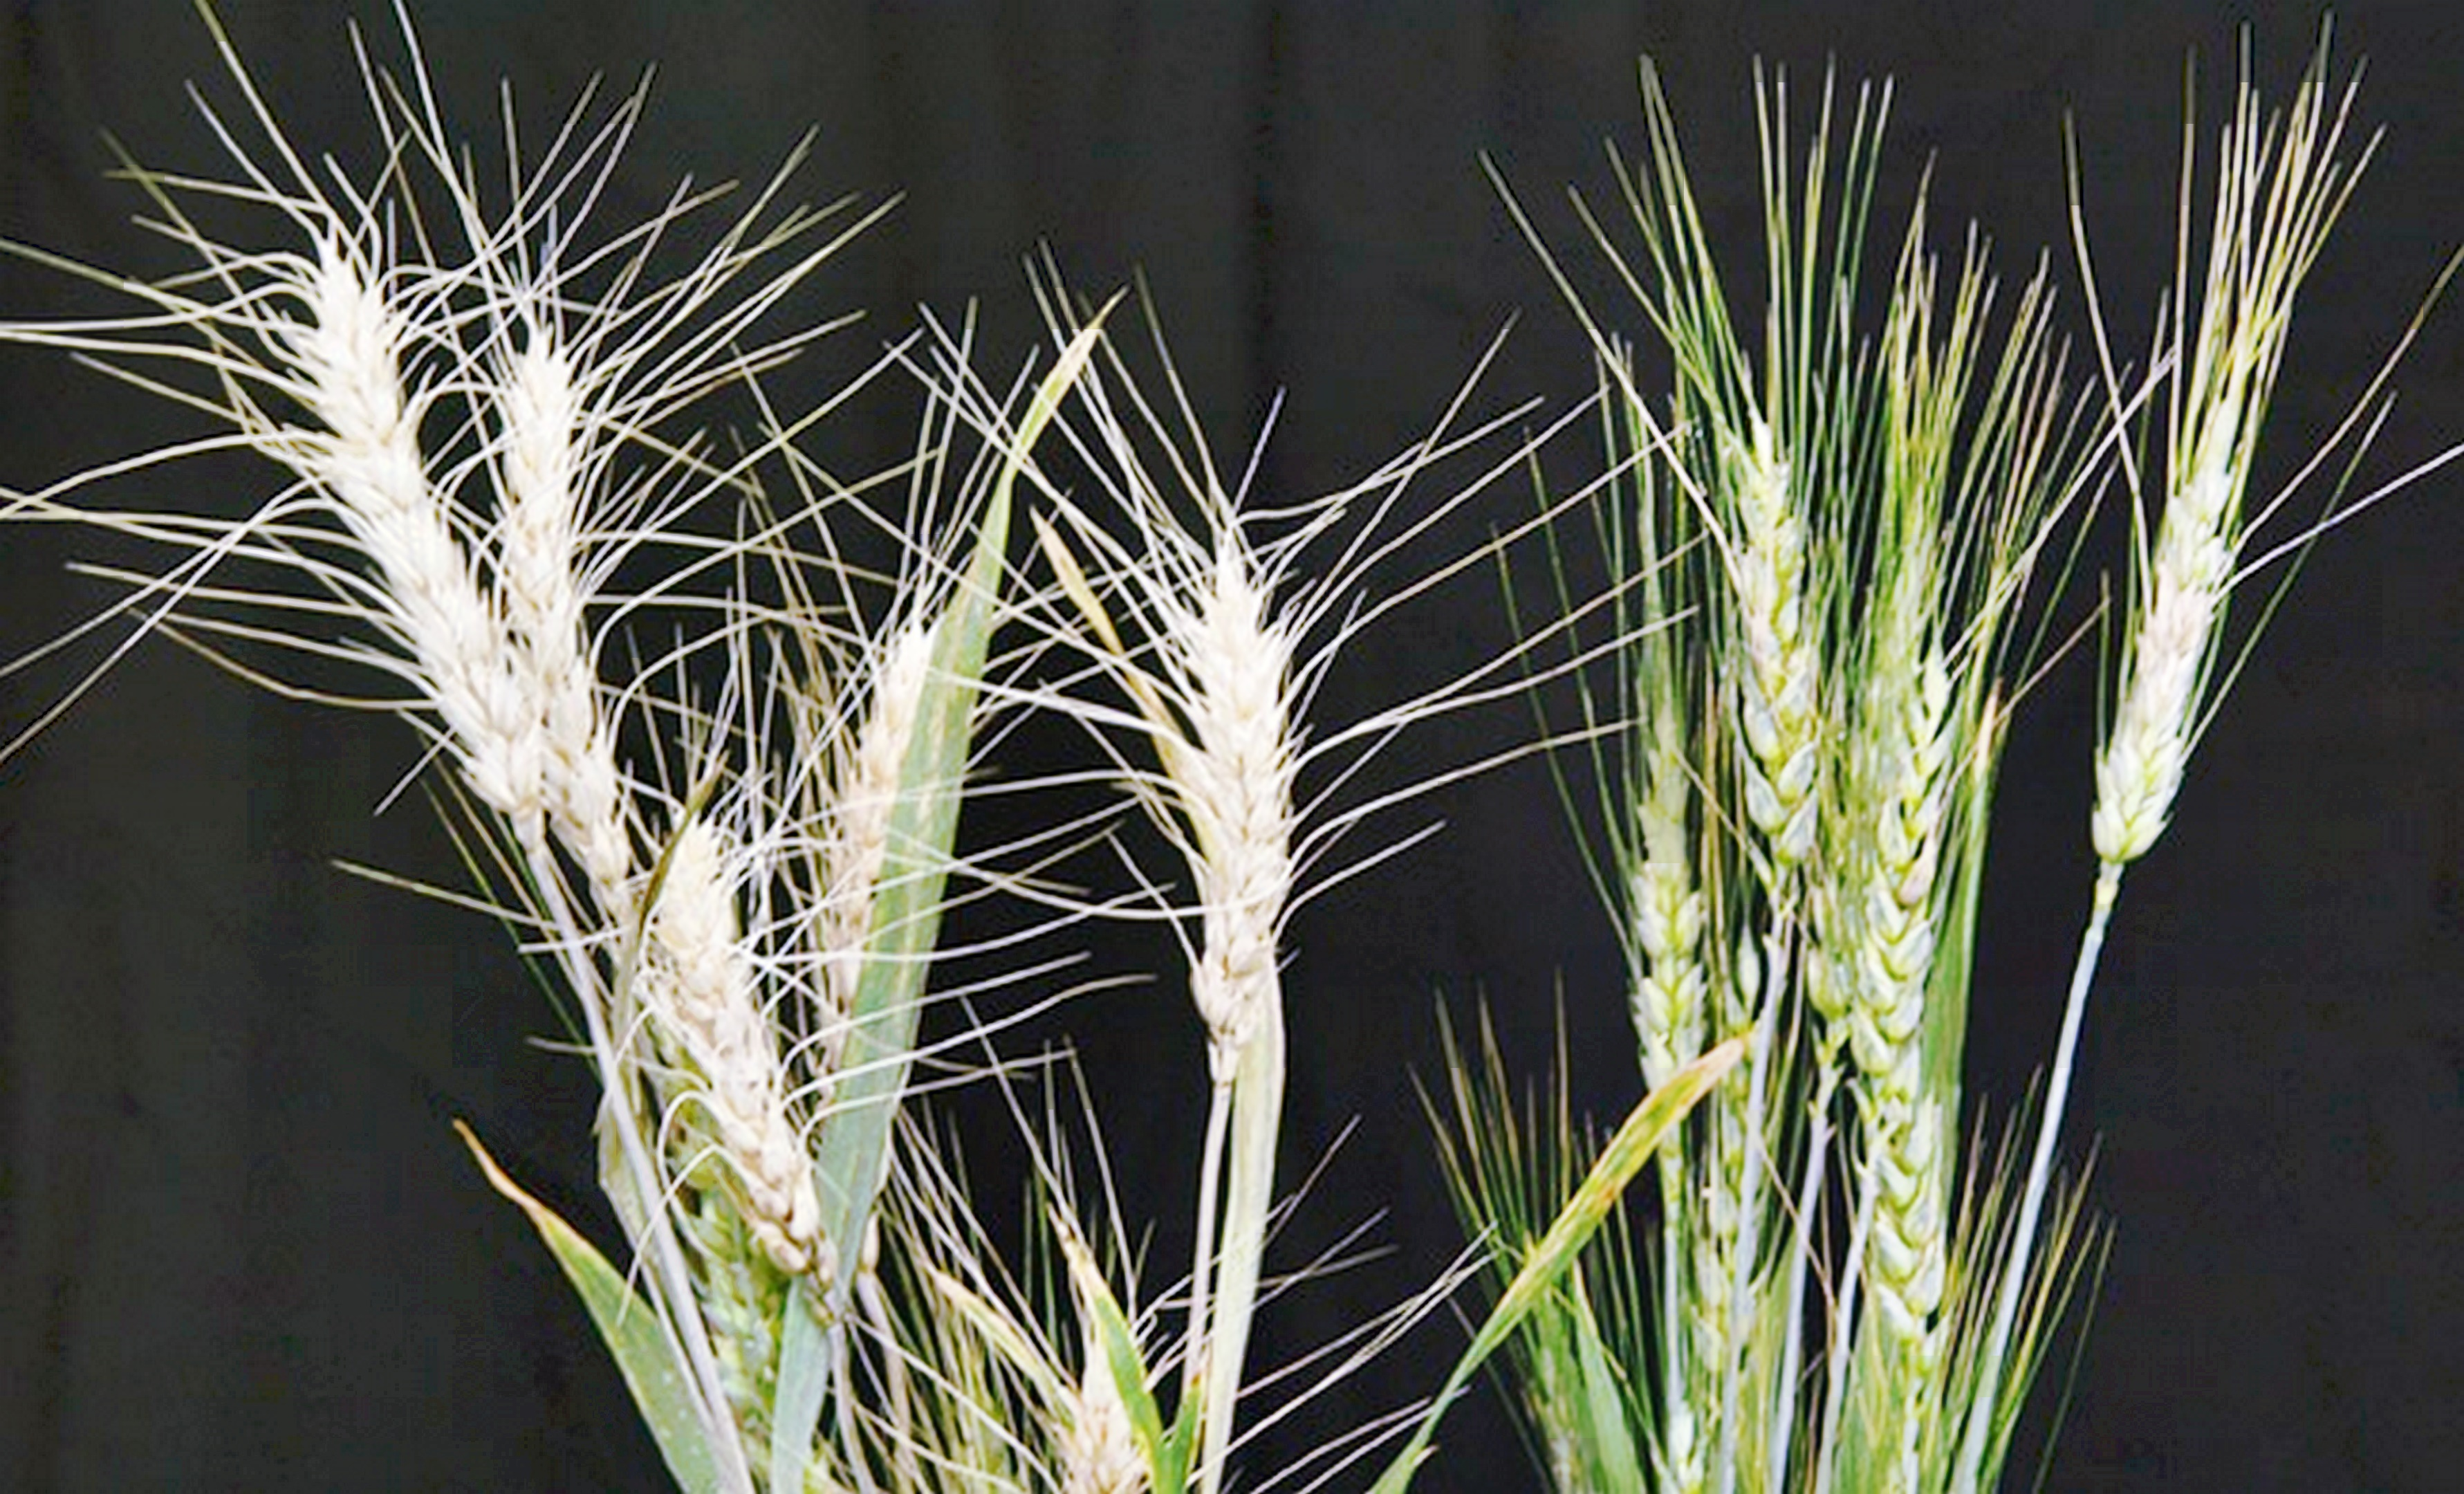Healthy Wheat: (264, 192, 1309, 1267)
